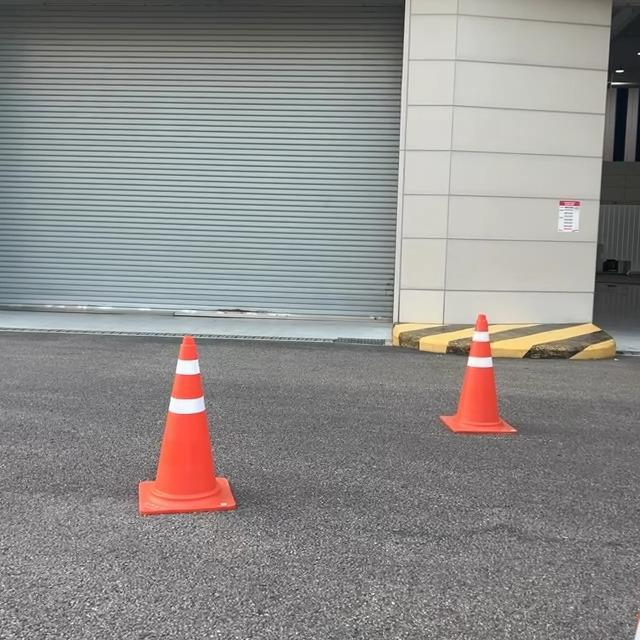fallen_object: (115, 325, 274, 540), (410, 299, 536, 453)
